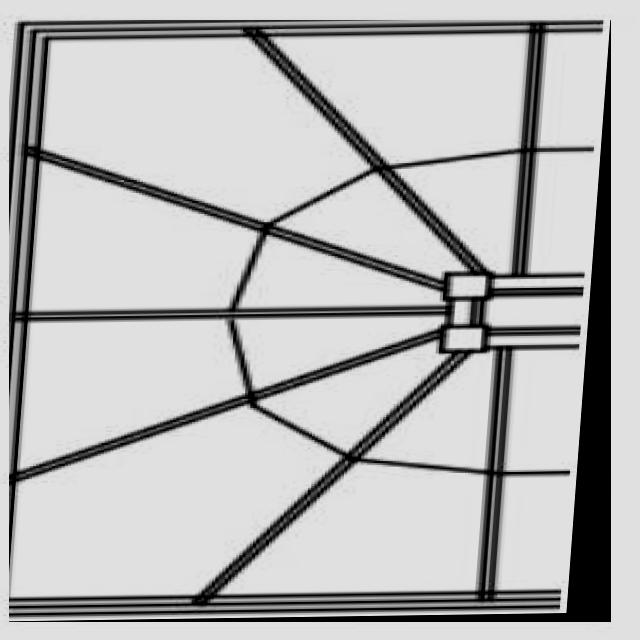stair: (9, 20, 612, 622)
